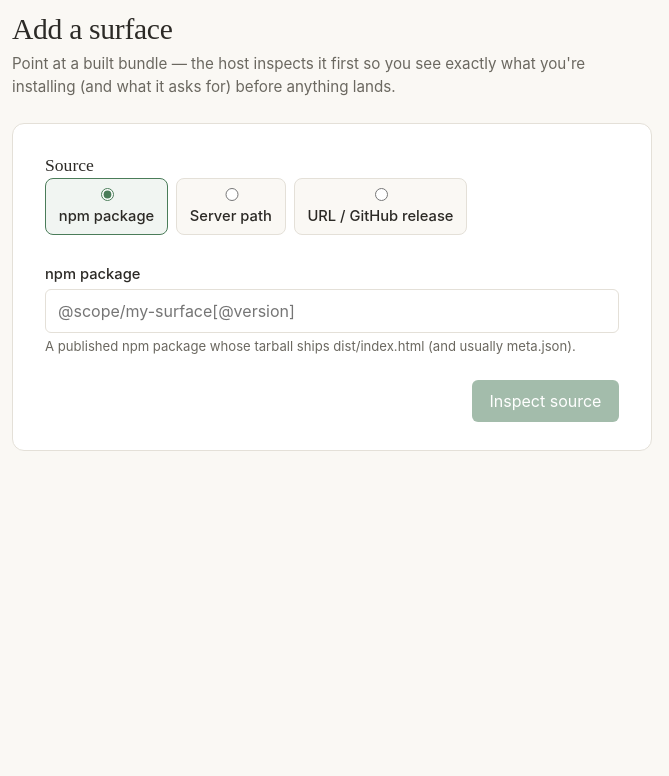
Test: Add — inspect step › no meta.json → manual name + mount fields appear
Click the radio button labelled "Server path" at coordinates (232, 195), box [195,188,269,202]
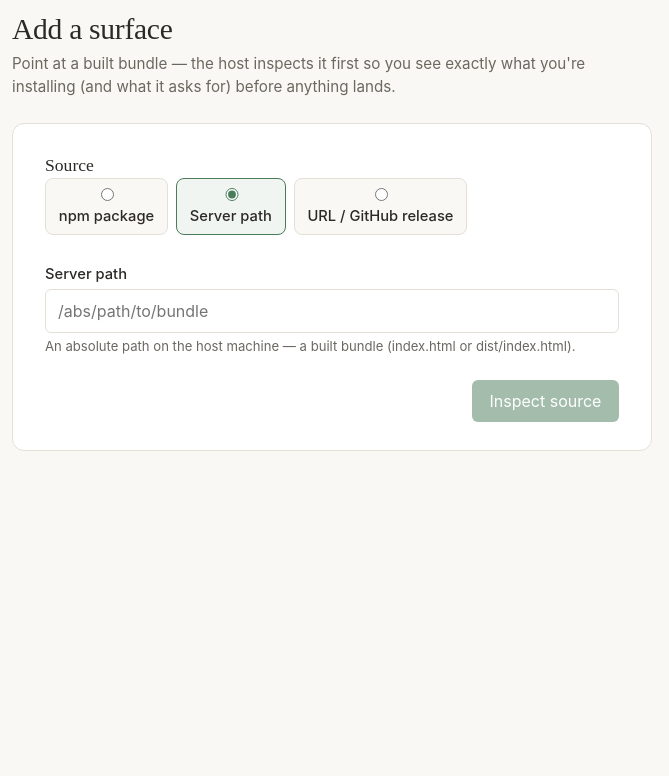
Type "/tmp/bare-bundle" into the field with placeholder "/abs/path/to/bundle" at coordinates (332, 311), box [45,289,619,333]
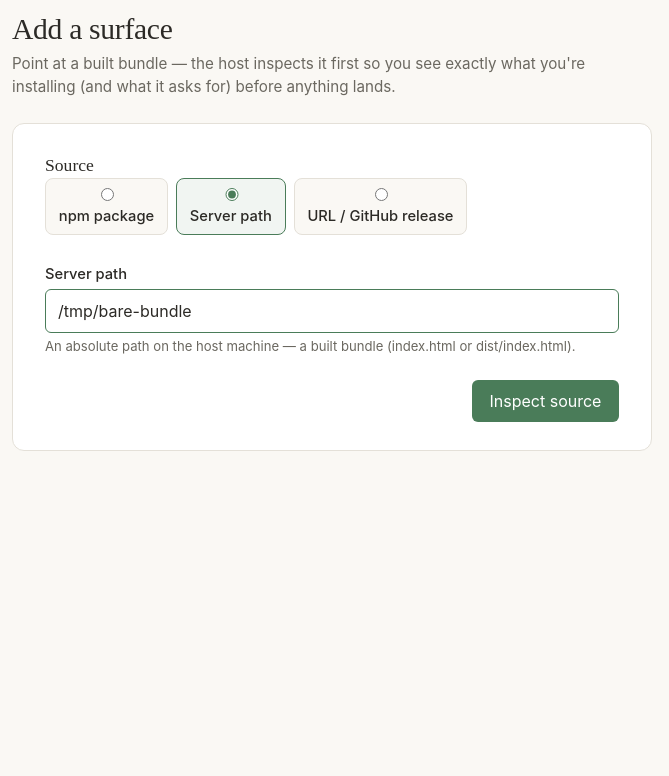
Click the button "Inspect source" at coordinates (545, 401), box [472,380,619,422]
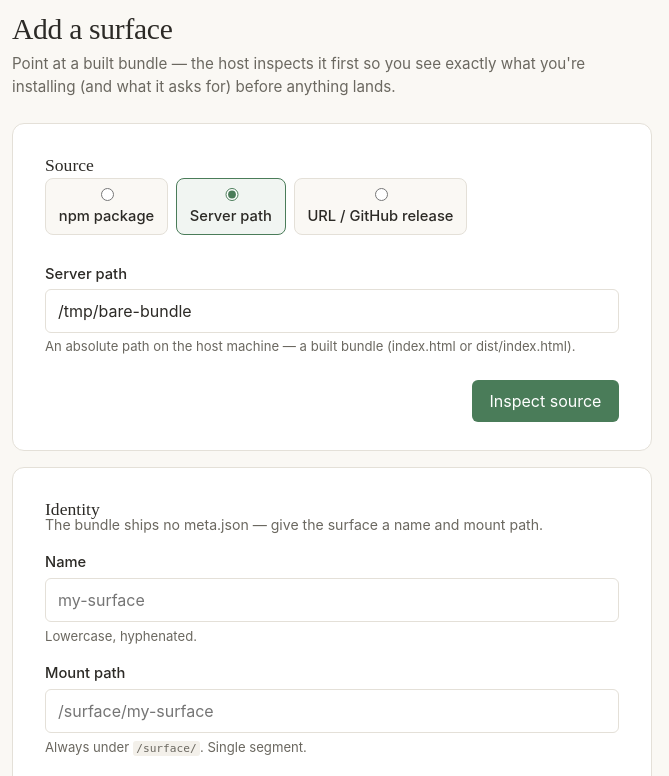
Now the text "ships no meta.json" is shown, box [45,516,543,533]
Now the field with placeholder "my-surface" is shown, box [45,578,619,622]
Now the field with placeholder "/surface/my-surface" is shown, box [45,689,619,733]
